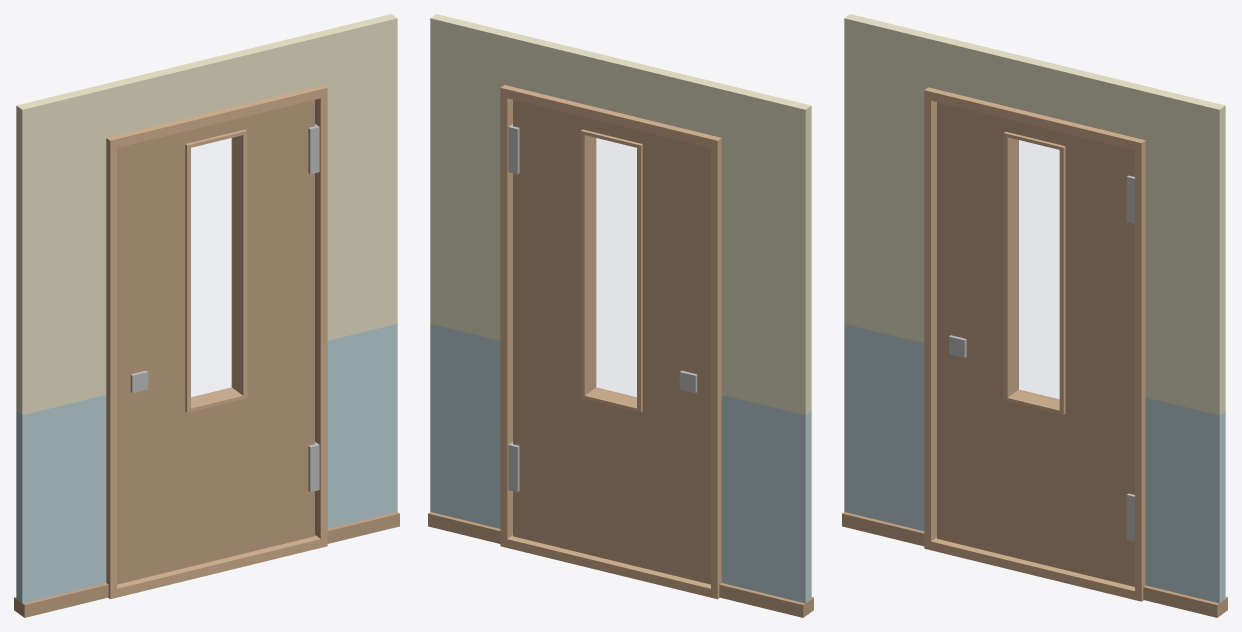
Rendered from door.fbx.
3 renders of one model, left to right at view 1: azimuth 30°, elevation 25°; view 2: azimuth 150°, elevation 25°; view 3: azimuth 330°, elevation 25°, orthographic.
Parts seen in each view (by area): view 1: Boole_2, Cube_12; view 2: Boole_2, Cube_12; view 3: Boole_2, Cube_12.
Part boxes in pixels (bbox=[...]): Boole_2: bbox=[14, 14, 399, 617]; Cube_12: bbox=[117, 99, 319, 584]; Boole_2: bbox=[428, 14, 813, 617]; Cube_12: bbox=[508, 99, 710, 584]; Boole_2: bbox=[842, 14, 1227, 617]; Cube_12: bbox=[937, 102, 1134, 586].
Bounding box in the file's own units: 69.25 × 89.41 × 4.42.
